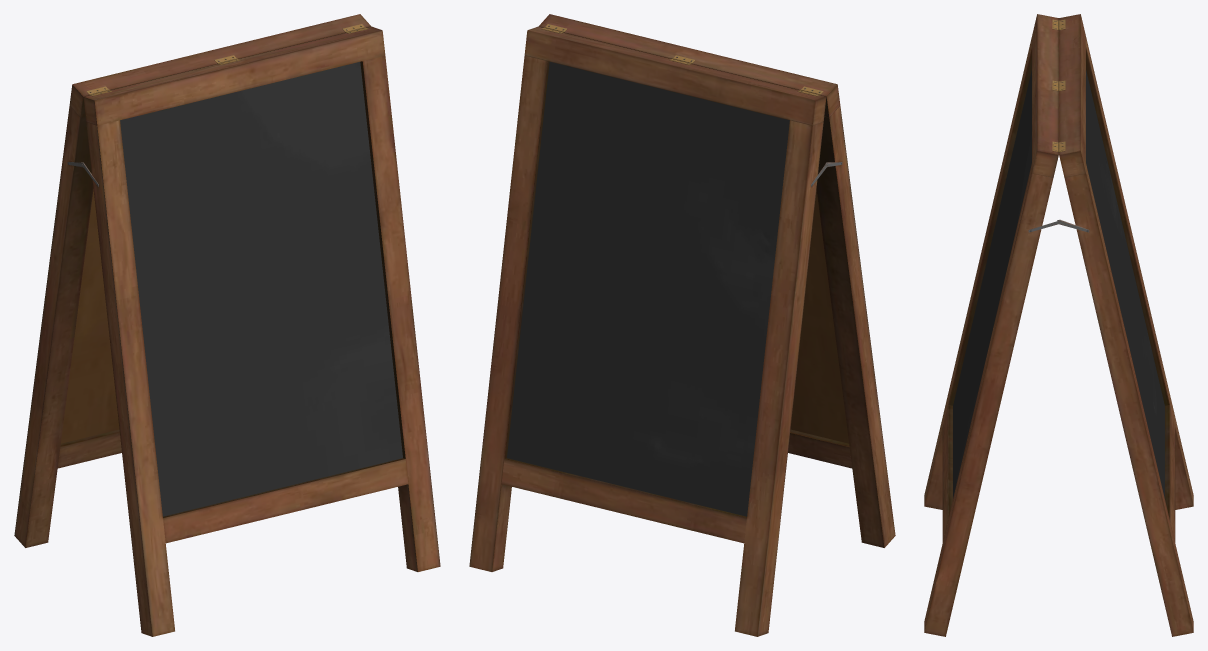
Rendered from standing_chalkboard_01.glb.
The picture shows the model from 3 angles, left to right: view 1: azimuth 30°, elevation 25°; view 2: azimuth 150°, elevation 25°; view 3: azimuth 270°, elevation 25°; orthographic projection. The views are drawn at different scales.
Parts seen in each view (by area): view 1: standing_chalkboard_01; view 2: standing_chalkboard_01; view 3: standing_chalkboard_01.
Part boxes in pixels (bbox=[...]): standing_chalkboard_01: bbox=[14, 14, 440, 636]; standing_chalkboard_01: bbox=[469, 14, 895, 636]; standing_chalkboard_01: bbox=[924, 14, 1193, 636].
Bounding box in the file's own units: 0.9195 × 1.51 × 0.7587.
Materials: 2 (2 with a texture image).
